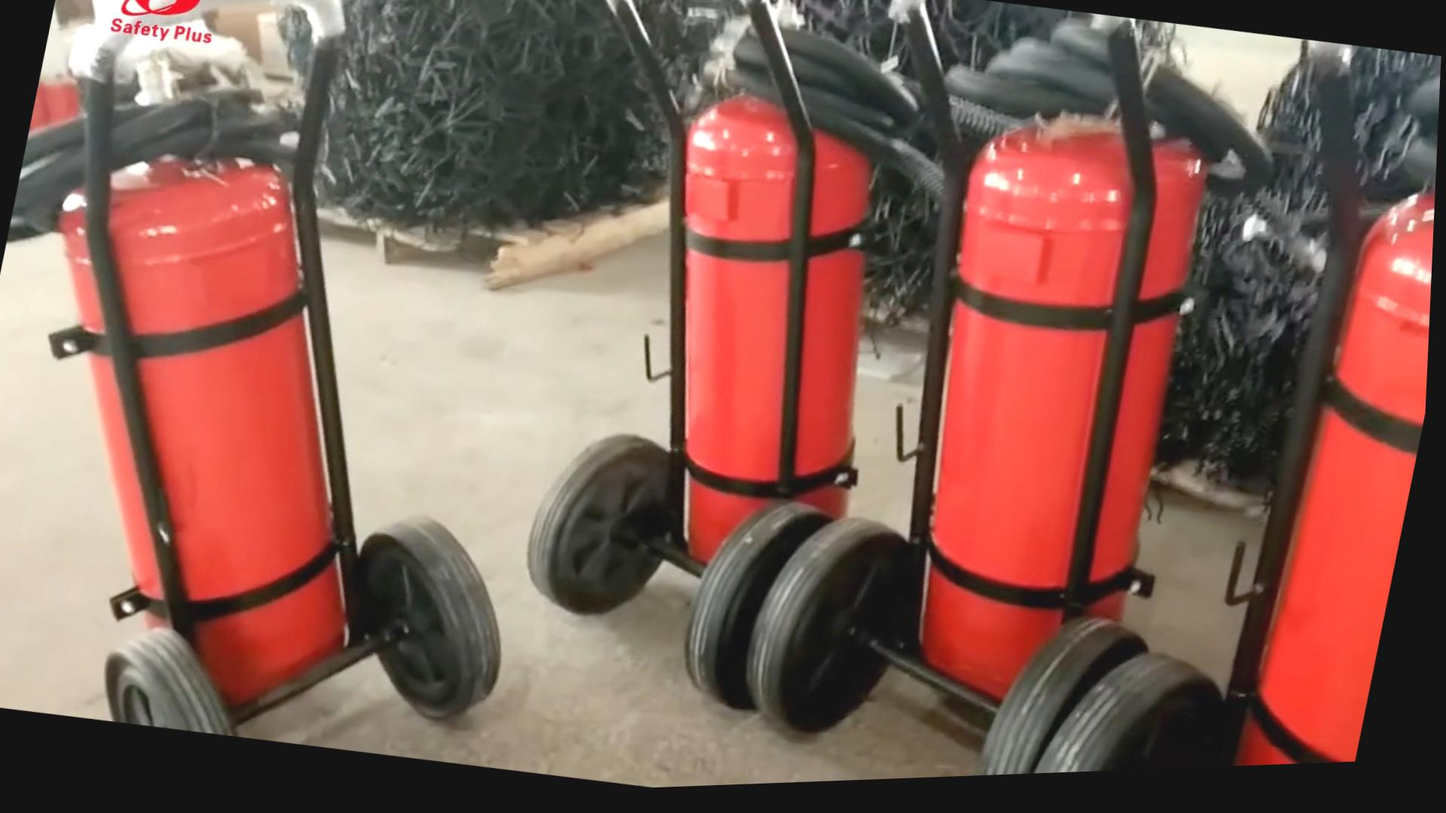FireExtinguisher: (0, 60, 477, 732), (857, 94, 1245, 767), (555, 61, 938, 632), (1198, 142, 1440, 777)
